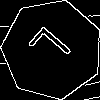L: (27, 24, 81, 75)
